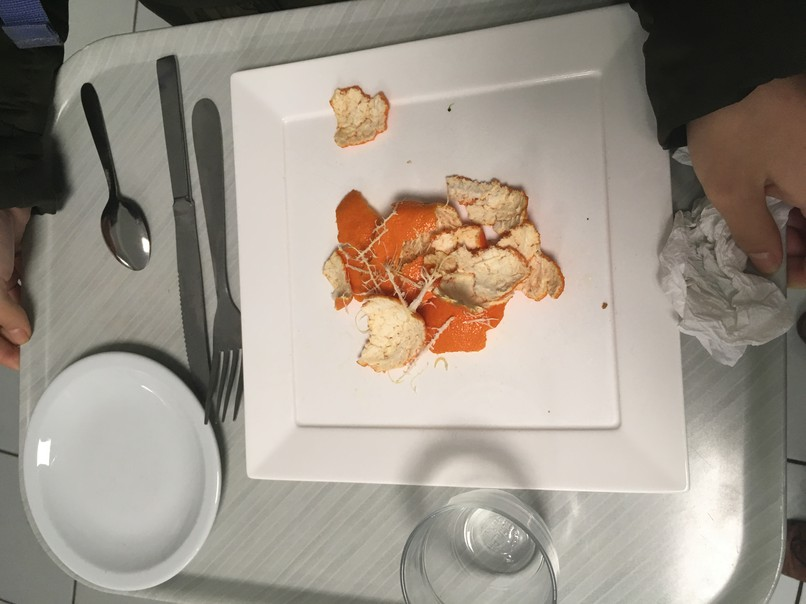cup: (403, 489, 560, 604)
cutlery: (144, 56, 255, 422), (61, 76, 158, 279)
orga: (327, 188, 557, 374), (330, 85, 414, 155)
trash: (672, 187, 801, 366)
